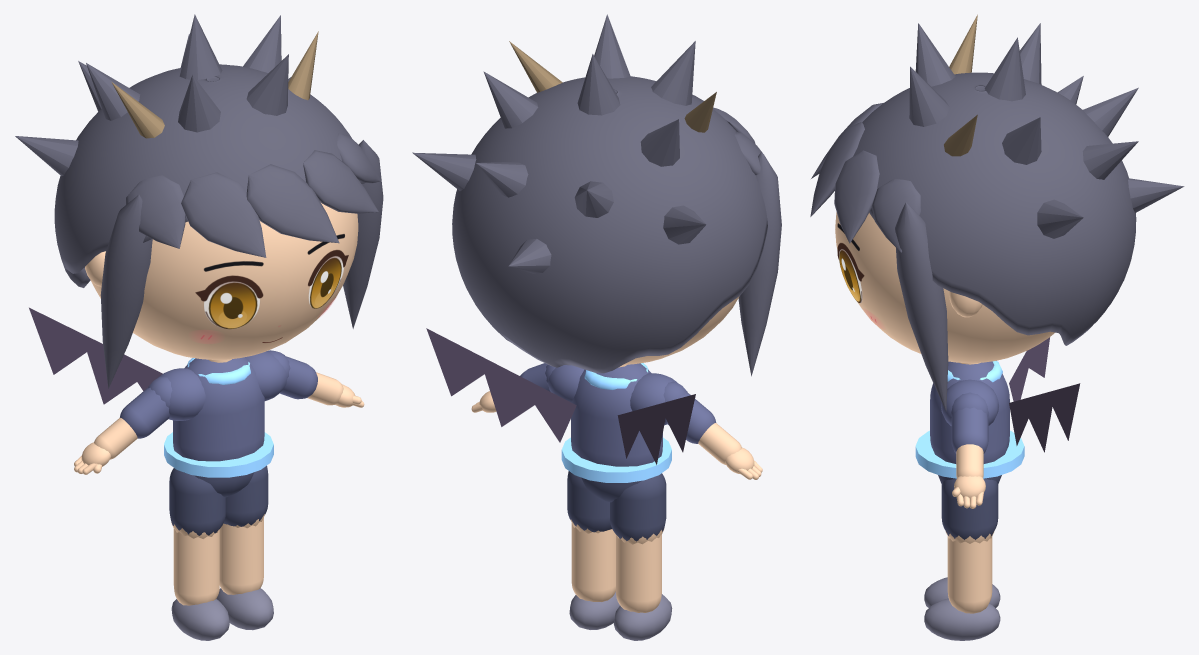
File: dusk.glb
The picture shows the model from 3 angles, left to right: view 1: azimuth 30°, elevation 25°; view 2: azimuth 150°, elevation 25°; view 3: azimuth 270°, elevation 25°; orthographic projection.
Parts seen in each view (by area): view 1: Head, Upper, Legs, ArmR, ArmL; view 2: Head, Upper, Legs, ArmR, ArmL; view 3: Head, Upper, Legs, ArmL.
Boxes of the visible parts, x1=… form: Head: x1=15, y1=14, x2=383, y2=388; Upper: x1=29, y1=307, x2=287, y2=497; Legs: x1=169, y1=465, x2=273, y2=640; ArmR: x1=74, y1=376, x2=172, y2=474; ArmL: x1=267, y1=350, x2=364, y2=407; Head: x1=412, y1=14, x2=781, y2=376; Upper: x1=426, y1=328, x2=695, y2=502; Legs: x1=567, y1=471, x2=672, y2=640; ArmR: x1=663, y1=381, x2=762, y2=479; ArmL: x1=471, y1=363, x2=555, y2=412; Head: x1=810, y1=14, x2=1184, y2=411; Upper: x1=915, y1=337, x2=1080, y2=485; Legs: x1=924, y1=479, x2=1000, y2=640; ArmL: x1=951, y1=392, x2=988, y2=508.
Size of the model in its own units: 1.73 by 3.35 by 1.92.
Materials: 10 (1 with a texture image).
